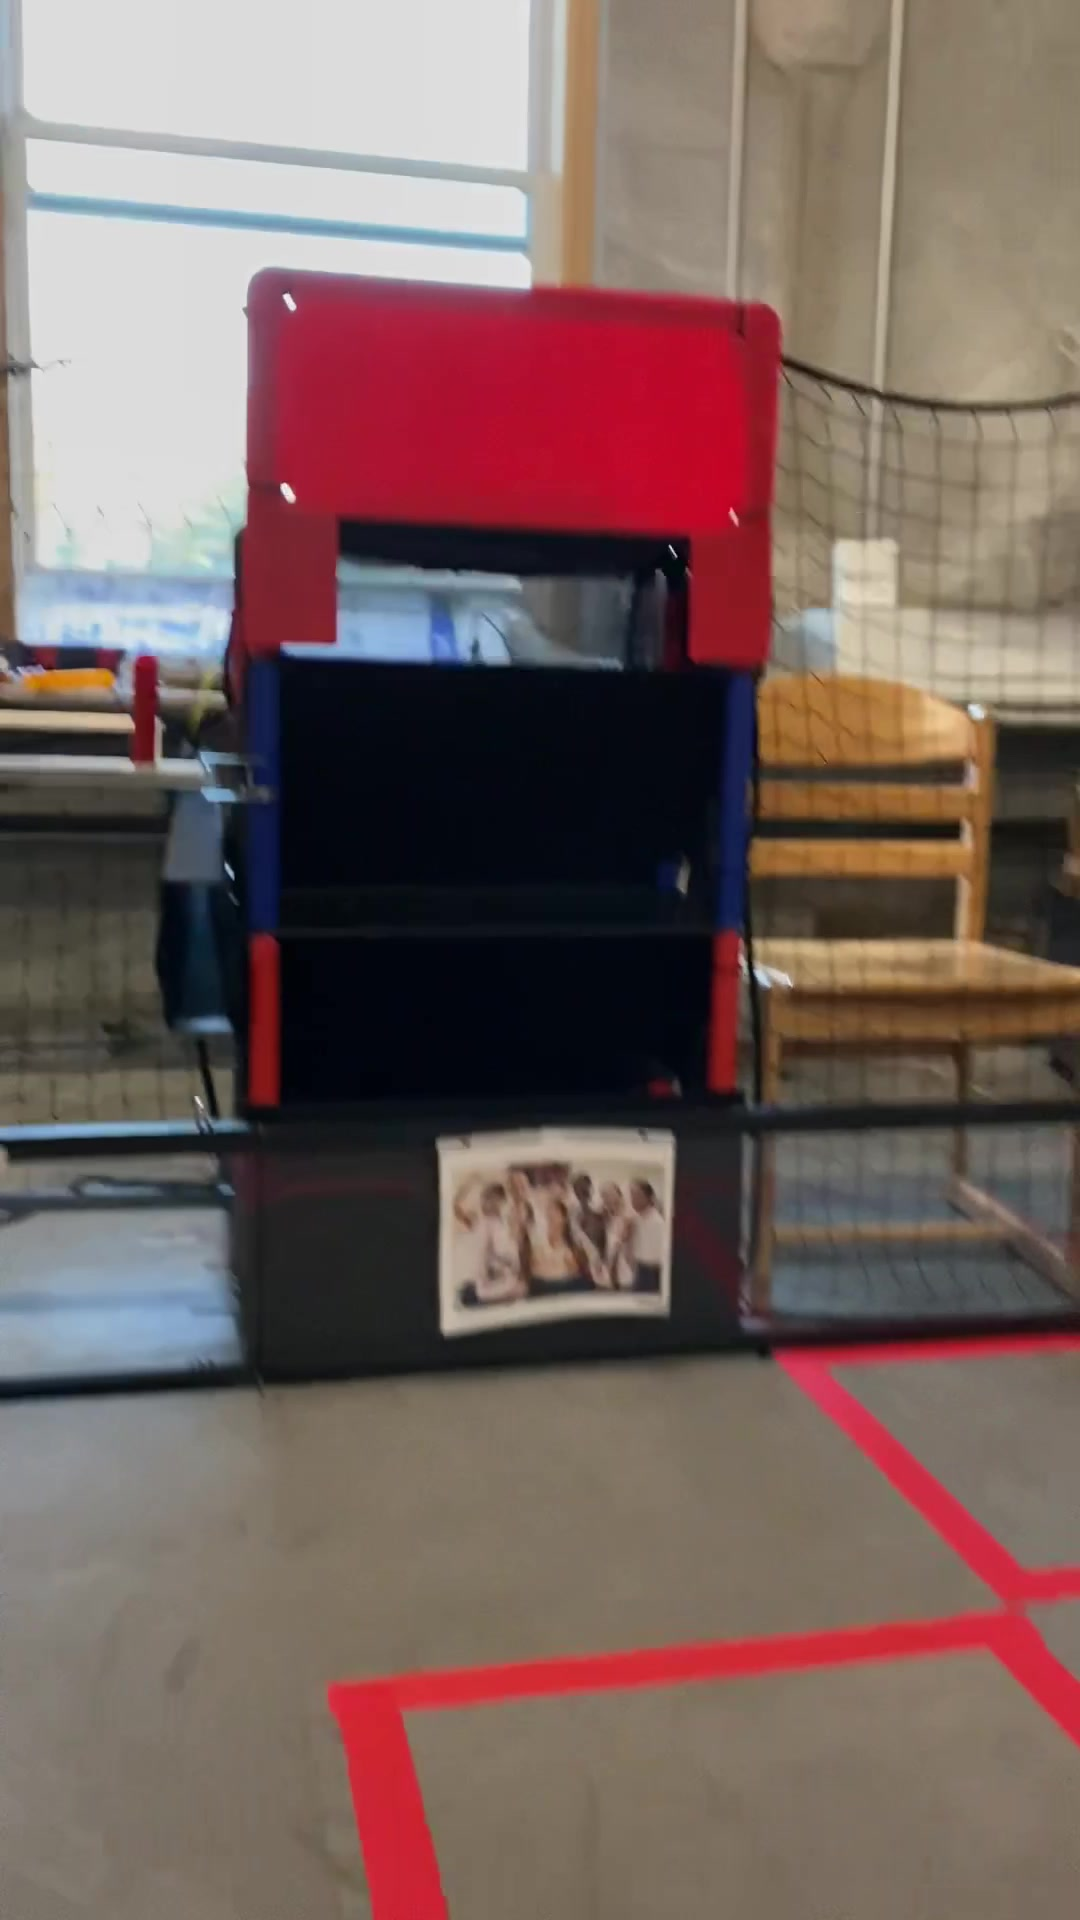high_goal: (335, 534, 691, 659)
